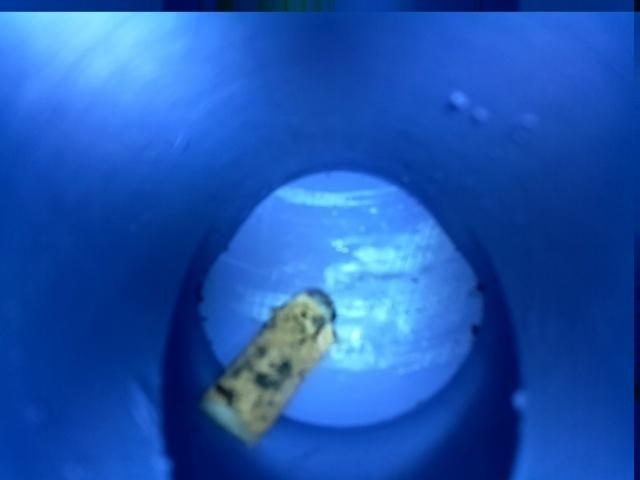megot: (190, 279, 351, 450)
